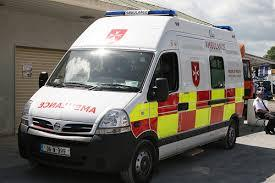ambulance: (10, 8, 250, 183)
